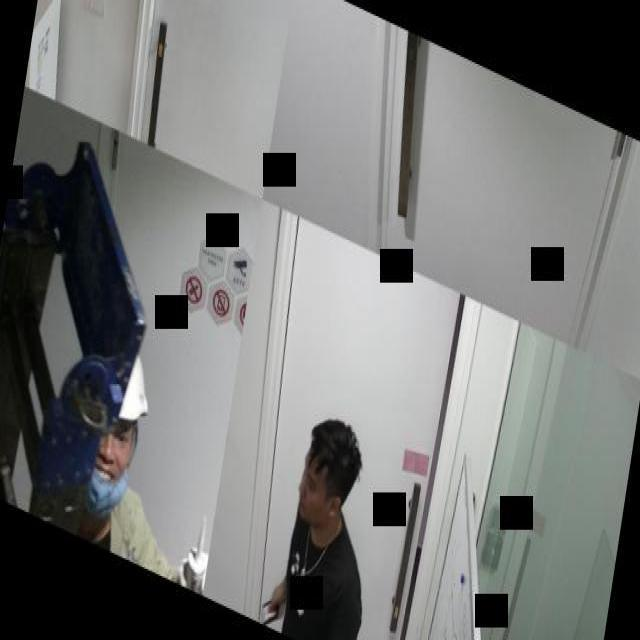hairnet: (84, 414, 131, 518)
